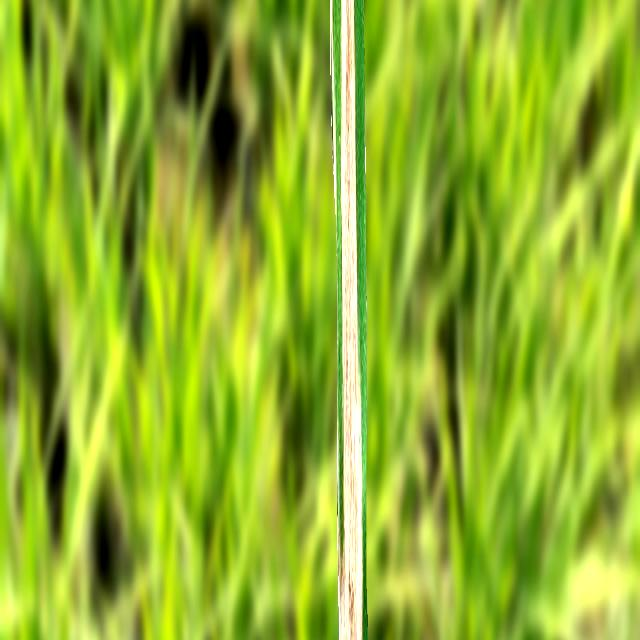BLB: (337, 0, 363, 640)
